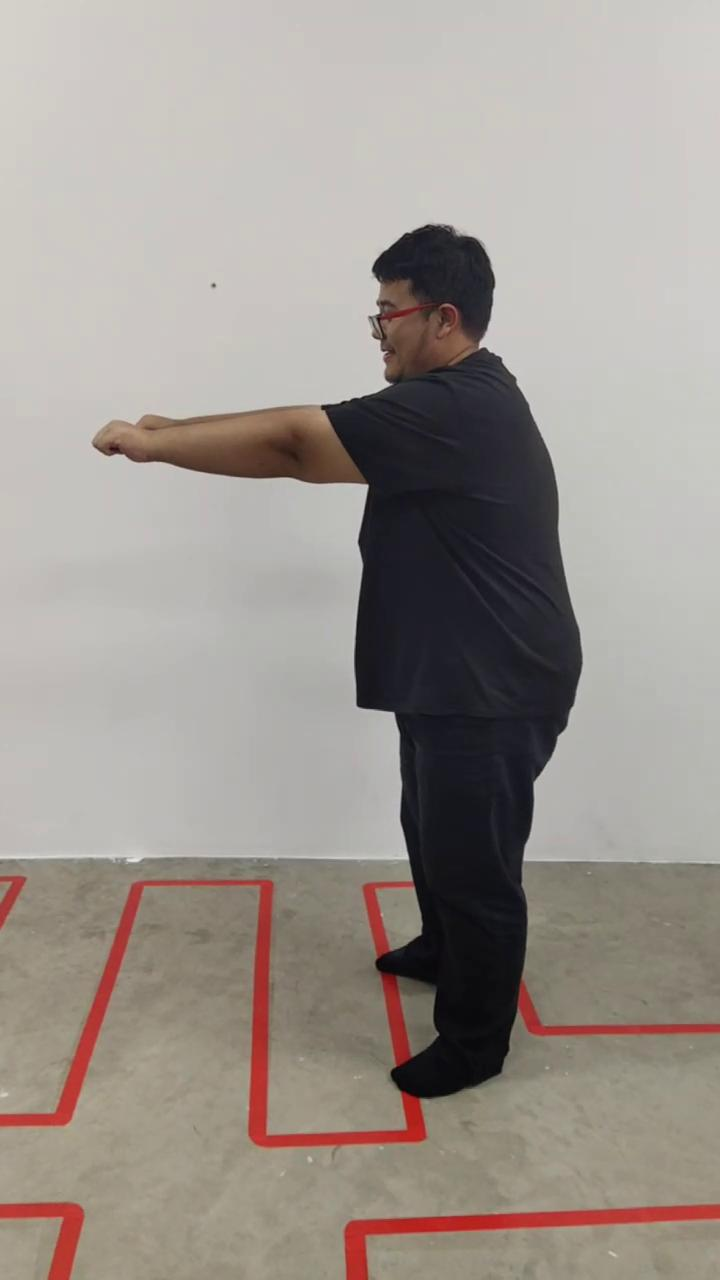squat up: (95, 223, 584, 1103)
